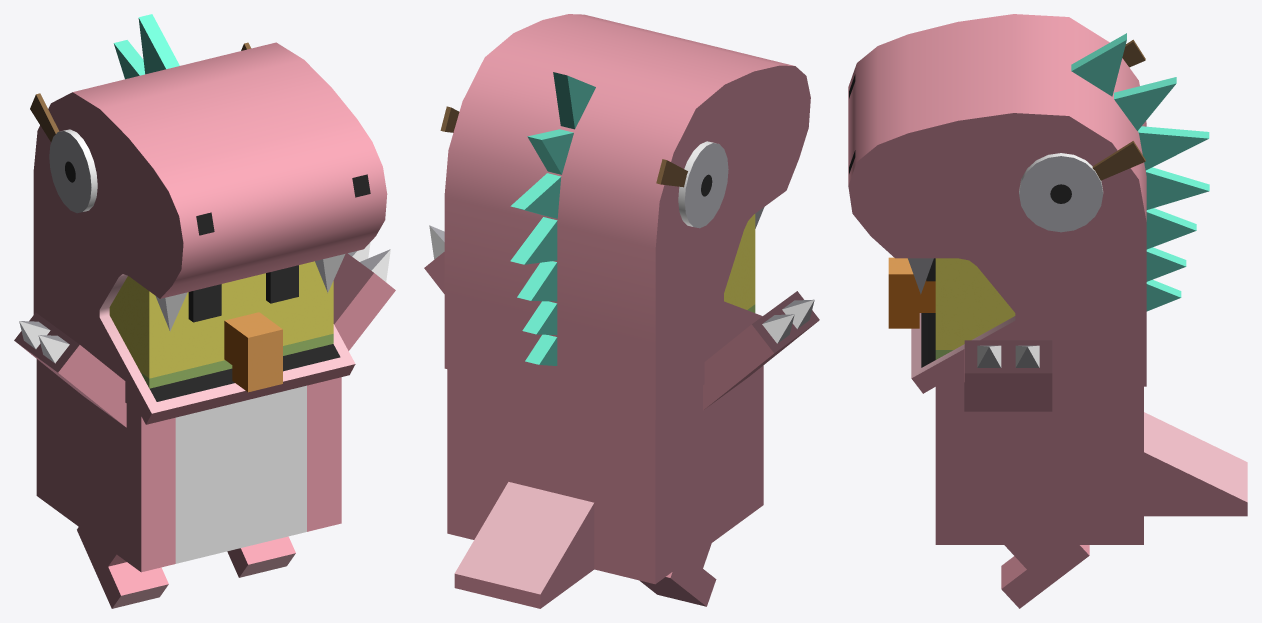
File: Ch_236@Down.FBX
The picture shows the model from 3 angles, left to right: view 1: azimuth 30°, elevation 25°; view 2: azimuth 150°, elevation 25°; view 3: azimuth 270°, elevation 25°; orthographic projection. The views are drawn at different scales.
Parts seen in each view (by area): view 1: Ch_236_Head, Ch_236, Ch_236_Arm_L, Ch_236_Arm_R, Ch_236_Leg_L, Ch_236_Eye_01, Ch_236_Leg_R; view 2: Ch_236_Head, Ch_236, Ch_236_Arm_L, Ch_236_Leg_L, Ch_236_Arm_R; view 3: Ch_236_Head, Ch_236, Ch_236_Arm_R, Ch_236_Leg_R.
Boxes of the visible parts, bbox=[...] form: Ch_236_Head: bbox=[30, 14, 387, 424]; Ch_236: bbox=[36, 359, 341, 572]; Ch_236_Arm_L: bbox=[14, 312, 126, 427]; Ch_236_Arm_R: bbox=[333, 242, 395, 350]; Ch_236_Leg_L: bbox=[77, 527, 168, 608]; Ch_236_Eye_01: bbox=[188, 265, 298, 322]; Ch_236_Leg_R: bbox=[227, 536, 295, 577]; Ch_236_Head: bbox=[440, 14, 810, 419]; Ch_236: bbox=[447, 365, 763, 608]; Ch_236_Arm_L: bbox=[703, 291, 819, 410]; Ch_236_Leg_L: bbox=[639, 543, 716, 606]; Ch_236_Arm_R: bbox=[424, 225, 444, 293]; Ch_236_Head: bbox=[848, 14, 1209, 393]; Ch_236: bbox=[935, 386, 1247, 544]; Ch_236_Arm_R: bbox=[964, 340, 1052, 411]; Ch_236_Leg_R: bbox=[1001, 545, 1089, 608].
Size of the model in its own units: 10.56 by 15.24 by 10.4.
